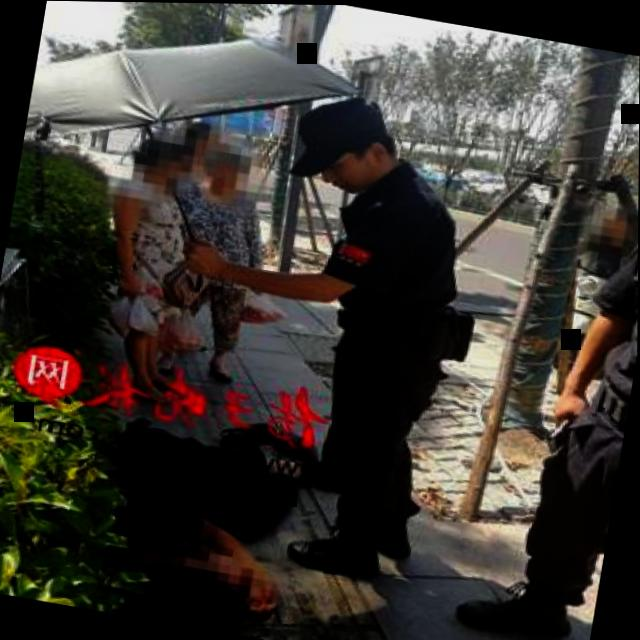Fall-Detected: (72, 367, 335, 640)
